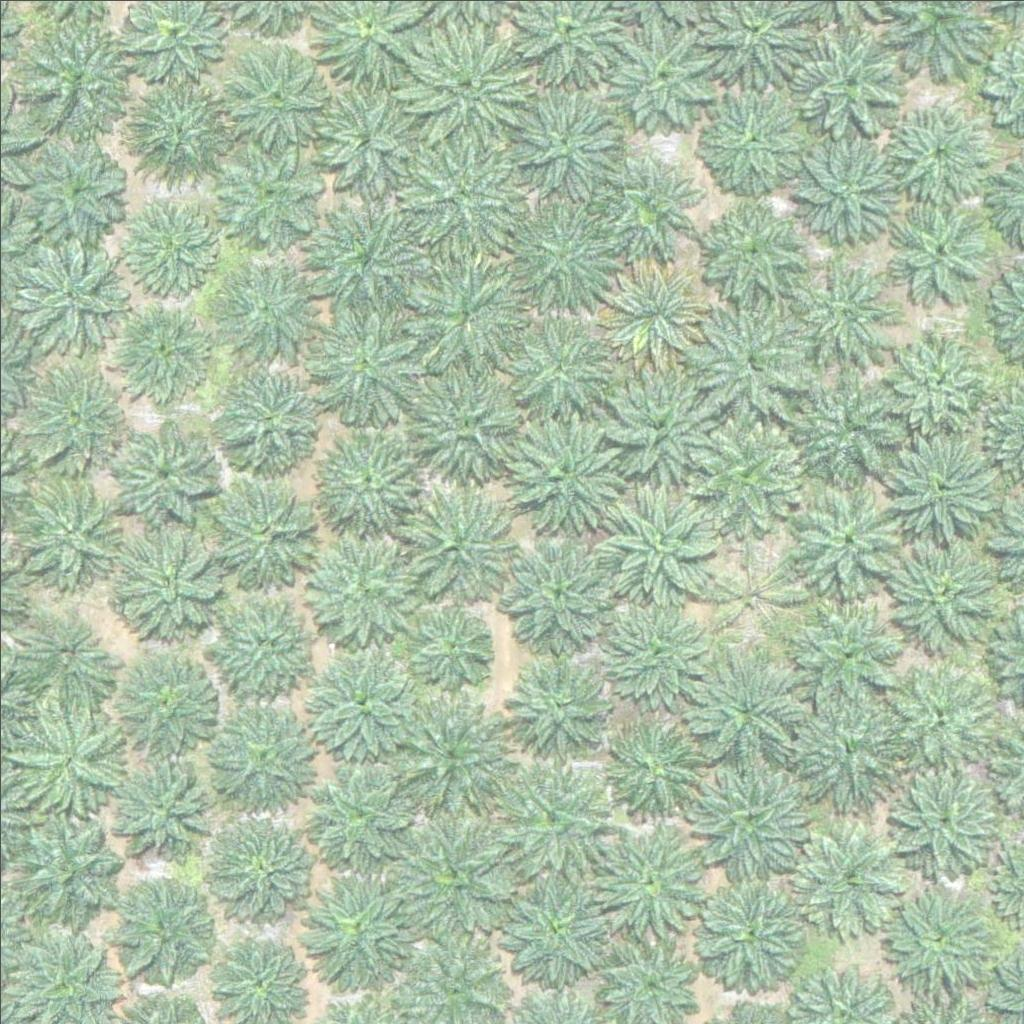Kelapa_Sawit: (871, 870, 996, 996), (302, 745, 427, 871), (388, 688, 513, 814), (404, 247, 529, 373), (398, 128, 523, 254), (886, 762, 1011, 888), (404, 26, 529, 151), (307, 874, 420, 988), (305, 422, 418, 536), (399, 488, 512, 602), (313, 307, 426, 421), (595, 825, 708, 939), (500, 535, 613, 649), (693, 880, 806, 993), (11, 469, 124, 582), (108, 640, 221, 753), (113, 518, 226, 631), (206, 810, 319, 923), (205, 697, 318, 810), (16, 238, 129, 351), (222, 42, 335, 155), (308, 83, 421, 196), (306, 202, 419, 315), (413, 364, 526, 477), (512, 419, 625, 532), (882, 664, 995, 777), (795, 371, 908, 484), (787, 479, 900, 592), (791, 596, 904, 709), (797, 694, 910, 807), (691, 418, 804, 531), (497, 766, 610, 879), (597, 253, 710, 366), (600, 20, 713, 133), (695, 300, 808, 413), (699, 195, 812, 308), (28, 27, 140, 141), (123, 76, 235, 190), (217, 140, 329, 254), (792, 824, 904, 938), (692, 764, 804, 878), (597, 587, 709, 701), (496, 875, 608, 988), (9, 810, 121, 923), (208, 579, 320, 692), (211, 471, 323, 584), (307, 643, 419, 756), (308, 532, 420, 645), (399, 821, 511, 934), (501, 309, 613, 422), (511, 200, 623, 313), (511, 89, 623, 202), (880, 540, 992, 653), (884, 433, 996, 546), (690, 653, 802, 766), (605, 369, 717, 482), (604, 491, 716, 604), (788, 255, 900, 368), (792, 23, 904, 136), (701, 543, 801, 644), (18, 705, 118, 806), (12, 611, 112, 712), (24, 364, 124, 465), (118, 875, 218, 976), (107, 758, 207, 859), (116, 424, 216, 525), (884, 325, 984, 426), (702, 87, 802, 188), (795, 142, 895, 243), (887, 193, 987, 294), (221, 371, 321, 471), (21, 143, 121, 243), (116, 299, 216, 399), (120, 192, 220, 292), (215, 260, 315, 360), (606, 717, 706, 817), (507, 659, 607, 759), (886, 101, 986, 201), (605, 162, 692, 251), (418, 607, 493, 683)
